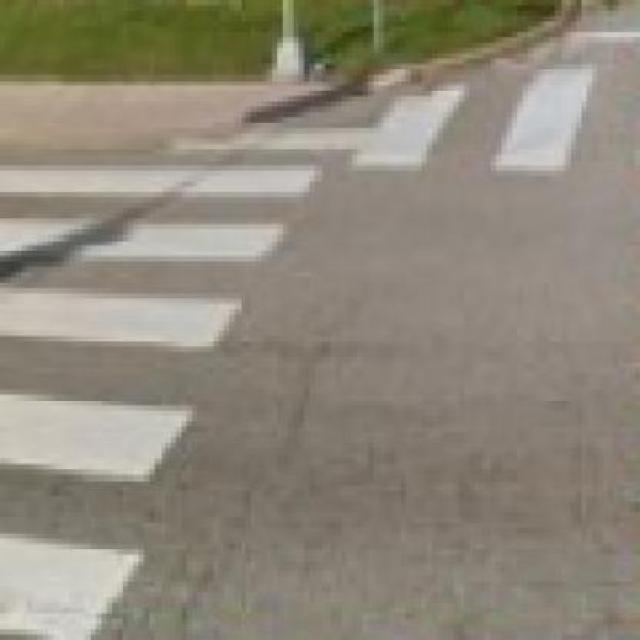crosswalk: (0, 165, 324, 639), (355, 62, 603, 175)
